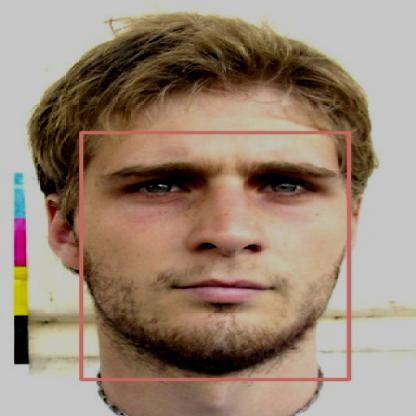without_mask: (81, 132, 349, 379)
